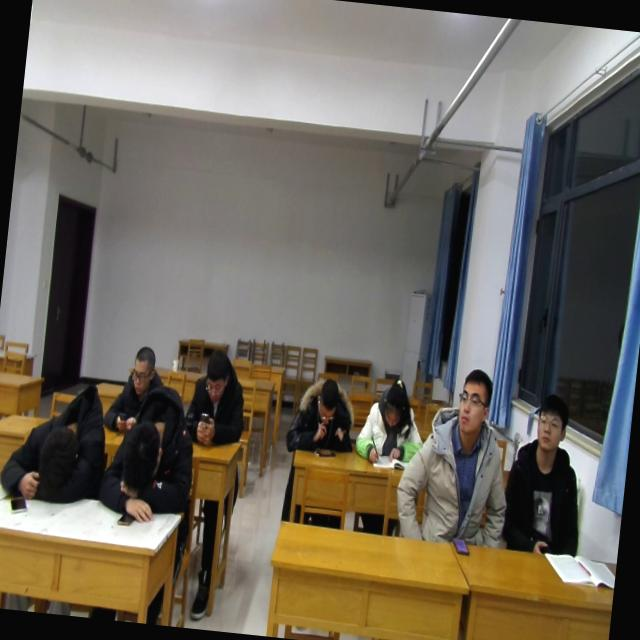bow: (96, 392, 201, 532), (0, 375, 110, 503)
down: (199, 346, 233, 408), (125, 340, 158, 398), (311, 372, 344, 422), (377, 378, 408, 430)
lookup: (452, 363, 498, 440), (530, 388, 573, 459)
sit: (394, 363, 516, 545), (502, 387, 594, 550), (282, 360, 364, 459), (181, 348, 252, 454), (354, 363, 424, 464), (109, 341, 172, 428)
